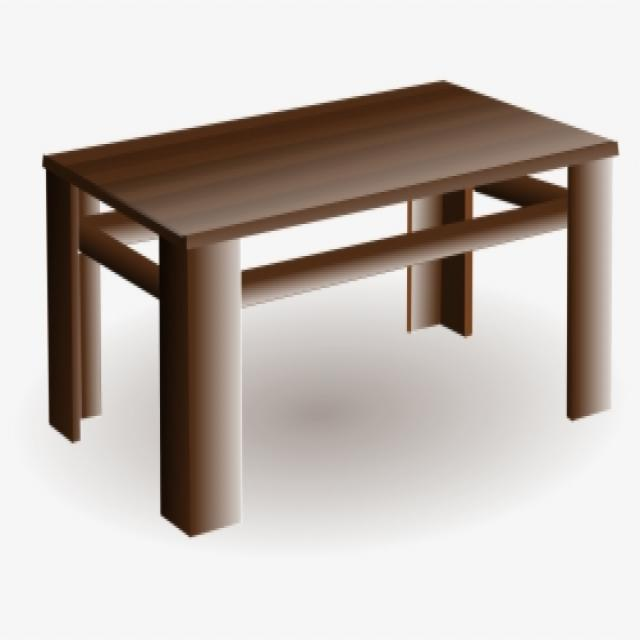Table: (29, 57, 640, 560)
